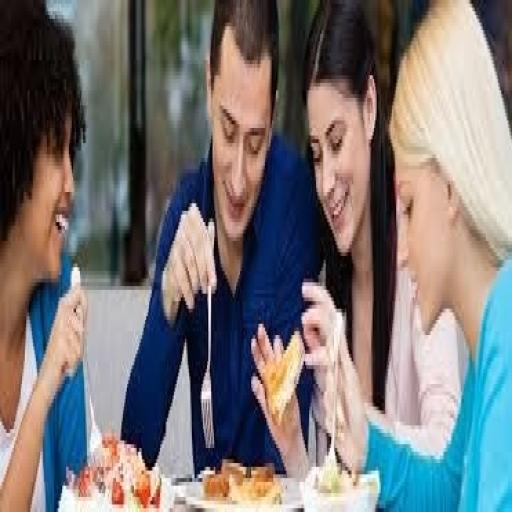eating: (119, 0, 324, 482), (0, 0, 91, 508)
